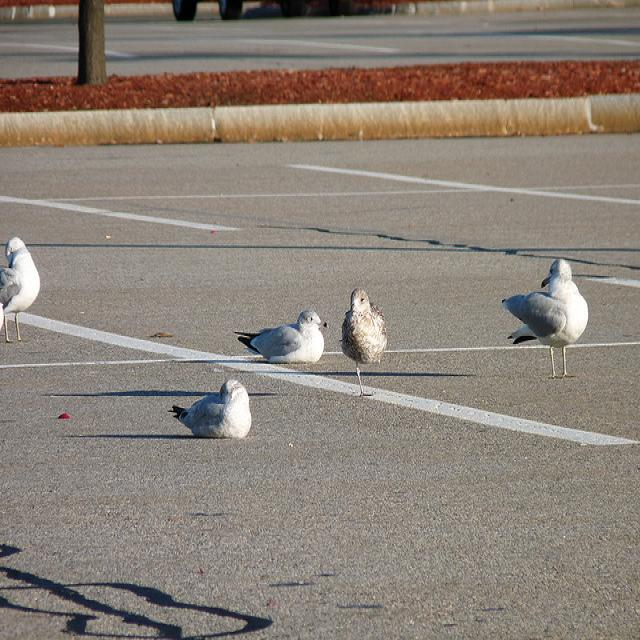Vehicle: (165, 1, 310, 28)
